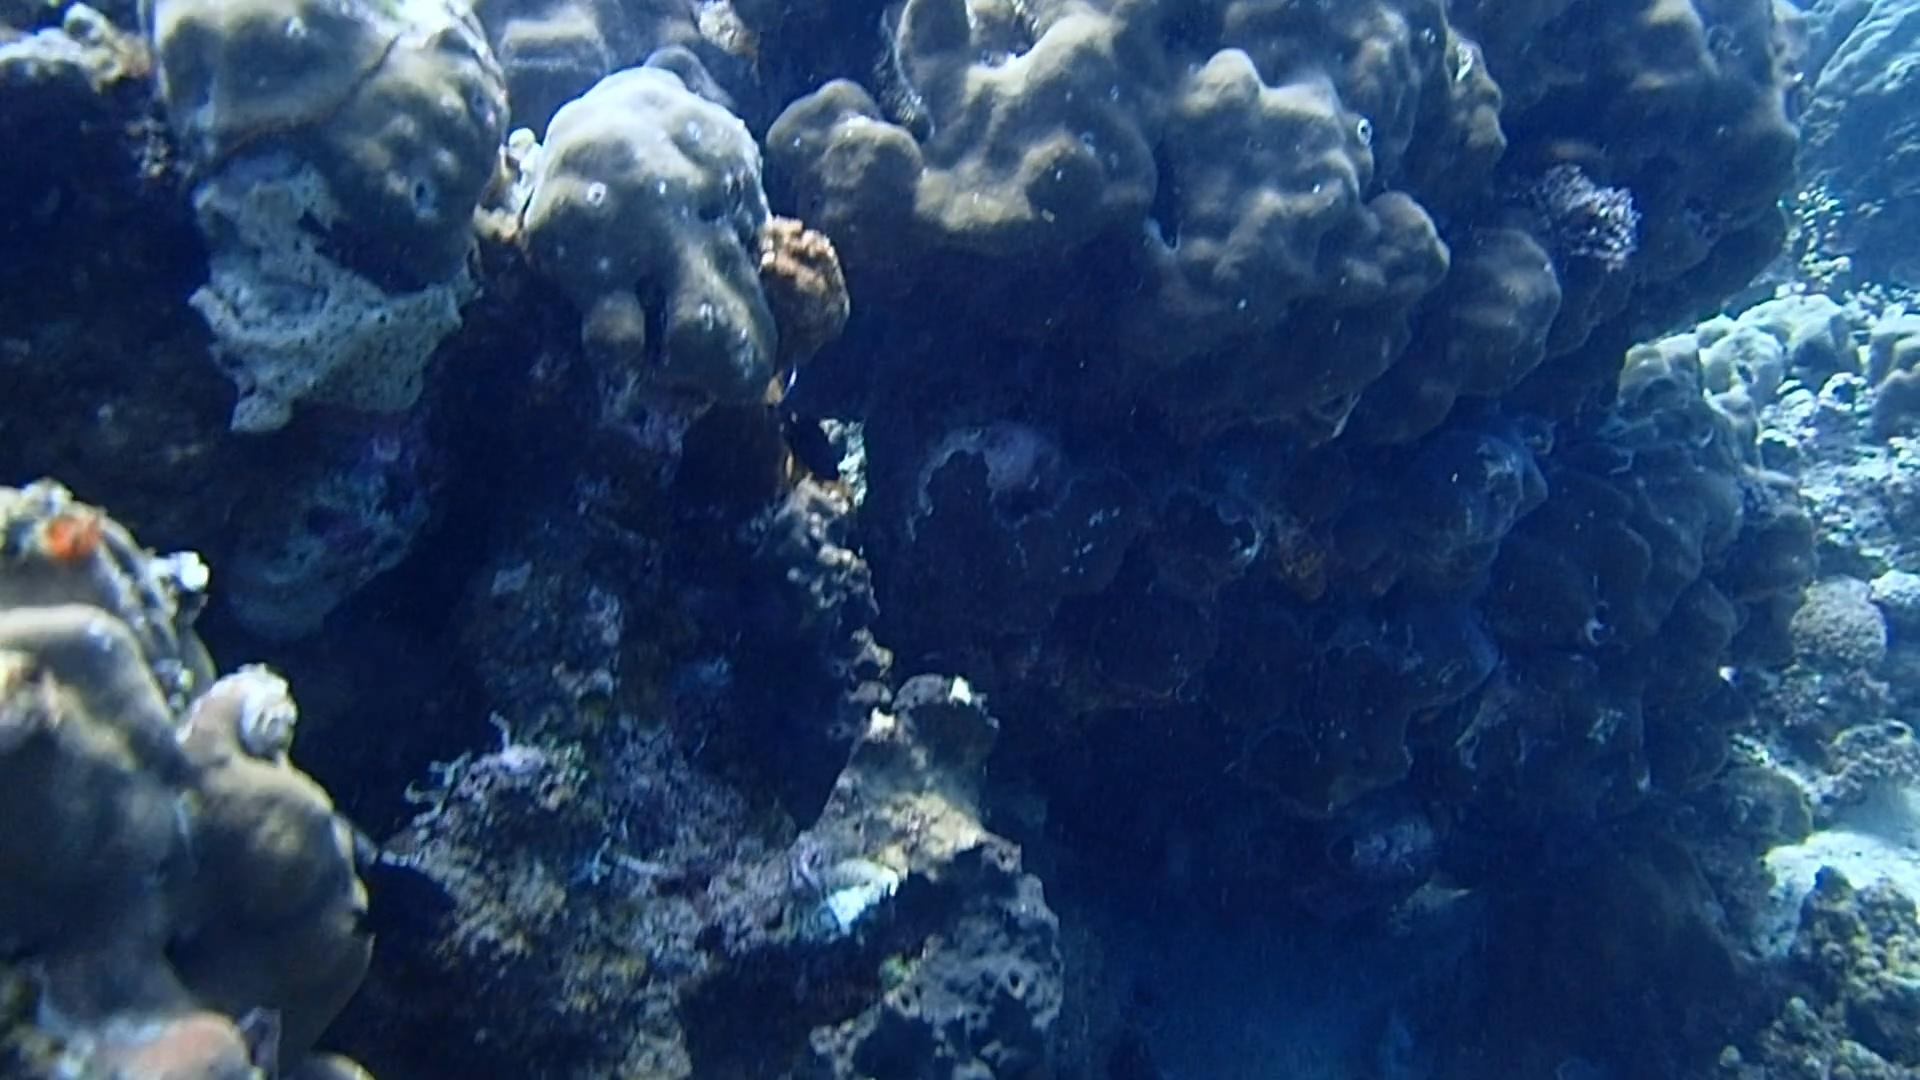Dark Fish: (349, 844, 463, 924), (778, 406, 849, 489)
